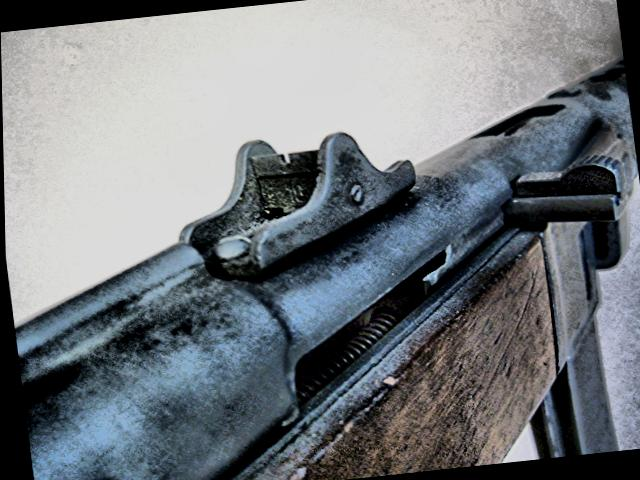pistol: (1, 57, 640, 480)
